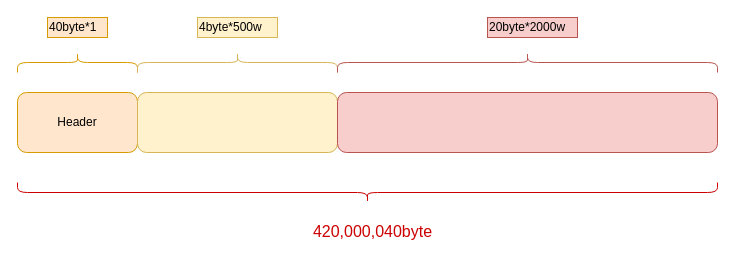
Some shapes in this 735 by 259 pixel diagram are drawn without their labels. The shapes that lost their labels are listed below. From the top down, each one's box as (x1, y1, x2, y2) in pixels, then its label:
(136, 92, 338, 152): Slot Table
(336, 92, 718, 152): Index Linked List
